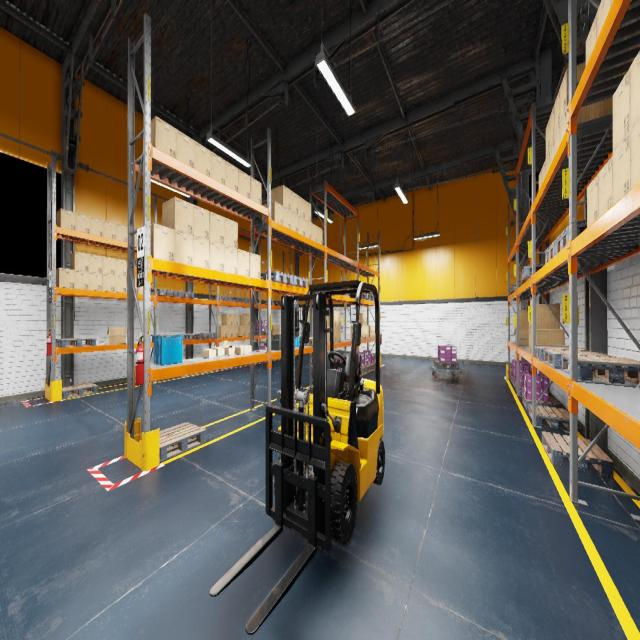box: (612, 66, 630, 155), (560, 61, 585, 122), (566, 97, 612, 129), (143, 116, 176, 158), (612, 133, 630, 204), (162, 197, 193, 234), (151, 223, 174, 261), (598, 155, 612, 217), (630, 50, 640, 132), (531, 303, 560, 329), (177, 129, 194, 168), (630, 122, 640, 188), (175, 230, 193, 265), (193, 204, 210, 240), (587, 173, 598, 227), (194, 141, 210, 177), (597, 0, 611, 39), (193, 236, 210, 268), (586, 12, 596, 66), (271, 185, 291, 210), (262, 201, 283, 224), (211, 151, 225, 185), (210, 211, 224, 244), (536, 329, 564, 345), (210, 240, 224, 272), (56, 208, 76, 230), (225, 218, 238, 248), (70, 252, 89, 272), (225, 245, 238, 274), (226, 161, 238, 192), (56, 268, 74, 288), (107, 327, 127, 344), (239, 169, 250, 198), (238, 249, 249, 276), (554, 88, 560, 136), (76, 213, 90, 233), (251, 177, 261, 204), (74, 270, 88, 289), (250, 252, 260, 278), (90, 216, 103, 236), (102, 256, 115, 275), (89, 254, 102, 273), (103, 220, 116, 239), (102, 274, 115, 292), (89, 272, 102, 290), (115, 258, 127, 276), (560, 109, 566, 144), (116, 223, 127, 242), (115, 275, 127, 292), (554, 124, 560, 156), (126, 277, 138, 293), (283, 206, 291, 229), (222, 341, 235, 355), (550, 104, 554, 148), (291, 190, 298, 215), (519, 327, 528, 346), (546, 118, 550, 158), (298, 196, 305, 218), (298, 215, 305, 236), (291, 211, 298, 232), (519, 310, 528, 326), (350, 326, 362, 338), (327, 310, 336, 326), (215, 326, 227, 338), (202, 348, 216, 358), (305, 200, 311, 222), (239, 314, 250, 325), (212, 346, 224, 356), (305, 219, 311, 239), (222, 313, 232, 325), (311, 223, 317, 242), (550, 138, 554, 166), (538, 168, 542, 192), (234, 346, 246, 354), (317, 227, 322, 244), (368, 325, 375, 337), (239, 345, 251, 352), (336, 326, 341, 342), (546, 149, 549, 175), (238, 325, 245, 336), (336, 311, 341, 326), (359, 313, 365, 325), (271, 325, 279, 334), (232, 325, 238, 337), (542, 160, 545, 183), (232, 314, 238, 325), (227, 326, 232, 338), (245, 325, 250, 336), (528, 328, 530, 352), (327, 327, 330, 343), (528, 305, 530, 328), (250, 326, 254, 336), (138, 286, 143, 294), (334, 327, 336, 342), (134, 229, 136, 244), (366, 325, 368, 338), (363, 326, 365, 338), (531, 329, 532, 352), (515, 327, 516, 343), (610, 0, 613, 5), (514, 327, 515, 334)
forklift: (274, 280, 385, 543)
pallets: (542, 431, 613, 478), (561, 354, 640, 384), (160, 422, 206, 462), (543, 349, 616, 369), (528, 404, 570, 430), (555, 223, 587, 255), (534, 346, 589, 361), (522, 393, 561, 412), (62, 383, 98, 399), (276, 386, 310, 400), (260, 271, 292, 284), (522, 264, 545, 280), (56, 338, 96, 347), (286, 276, 308, 288), (545, 240, 555, 264), (433, 360, 459, 369), (304, 337, 327, 346), (152, 334, 181, 341), (151, 289, 177, 296), (521, 272, 536, 284), (194, 333, 217, 339), (176, 291, 194, 298), (179, 334, 199, 340), (515, 382, 524, 395), (211, 296, 232, 301), (356, 294, 373, 300), (511, 283, 521, 293), (179, 373, 199, 377), (228, 297, 244, 302), (364, 364, 374, 371), (368, 295, 379, 301), (265, 300, 281, 304), (255, 331, 271, 335), (361, 366, 367, 375), (244, 299, 257, 303), (512, 377, 516, 389), (199, 371, 215, 374), (219, 367, 235, 370), (245, 362, 259, 365), (370, 362, 375, 369), (508, 287, 512, 294), (510, 374, 513, 383)
